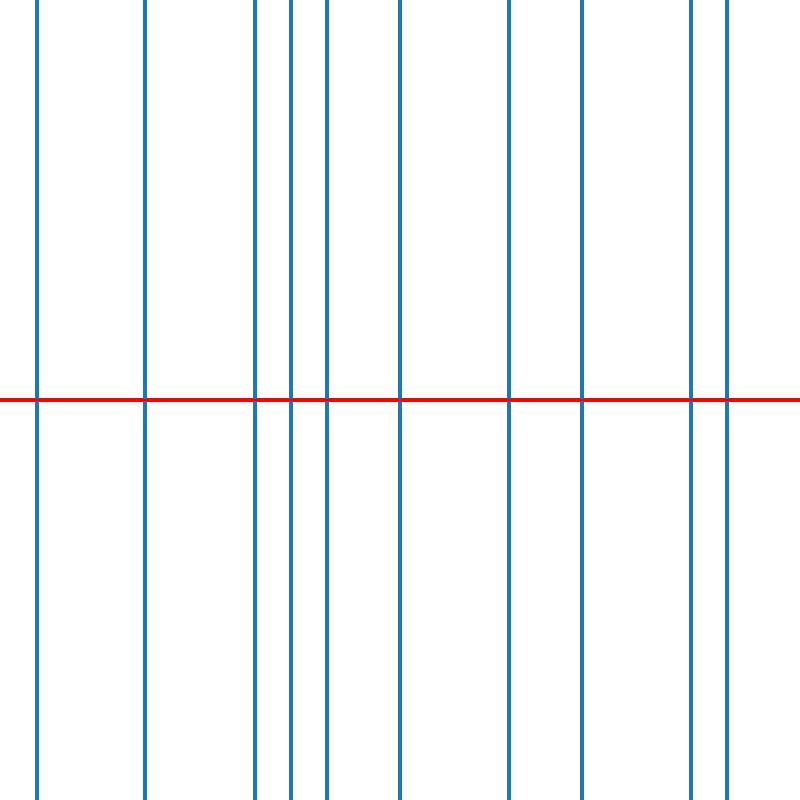root: (250, 396, 258, 404), (32, 396, 40, 404), (141, 396, 149, 404), (723, 396, 730, 404), (505, 396, 512, 404), (287, 396, 294, 404), (323, 396, 330, 404), (578, 396, 585, 404), (396, 396, 403, 404), (687, 396, 694, 404)
